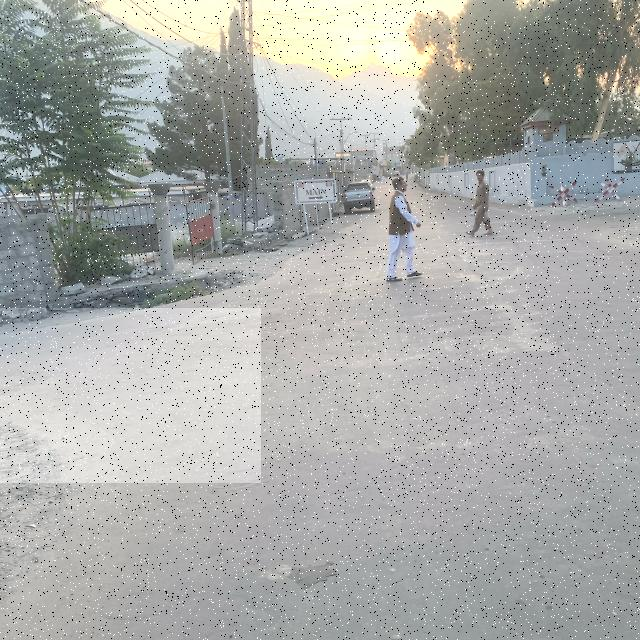left: (0, 308, 261, 483)
